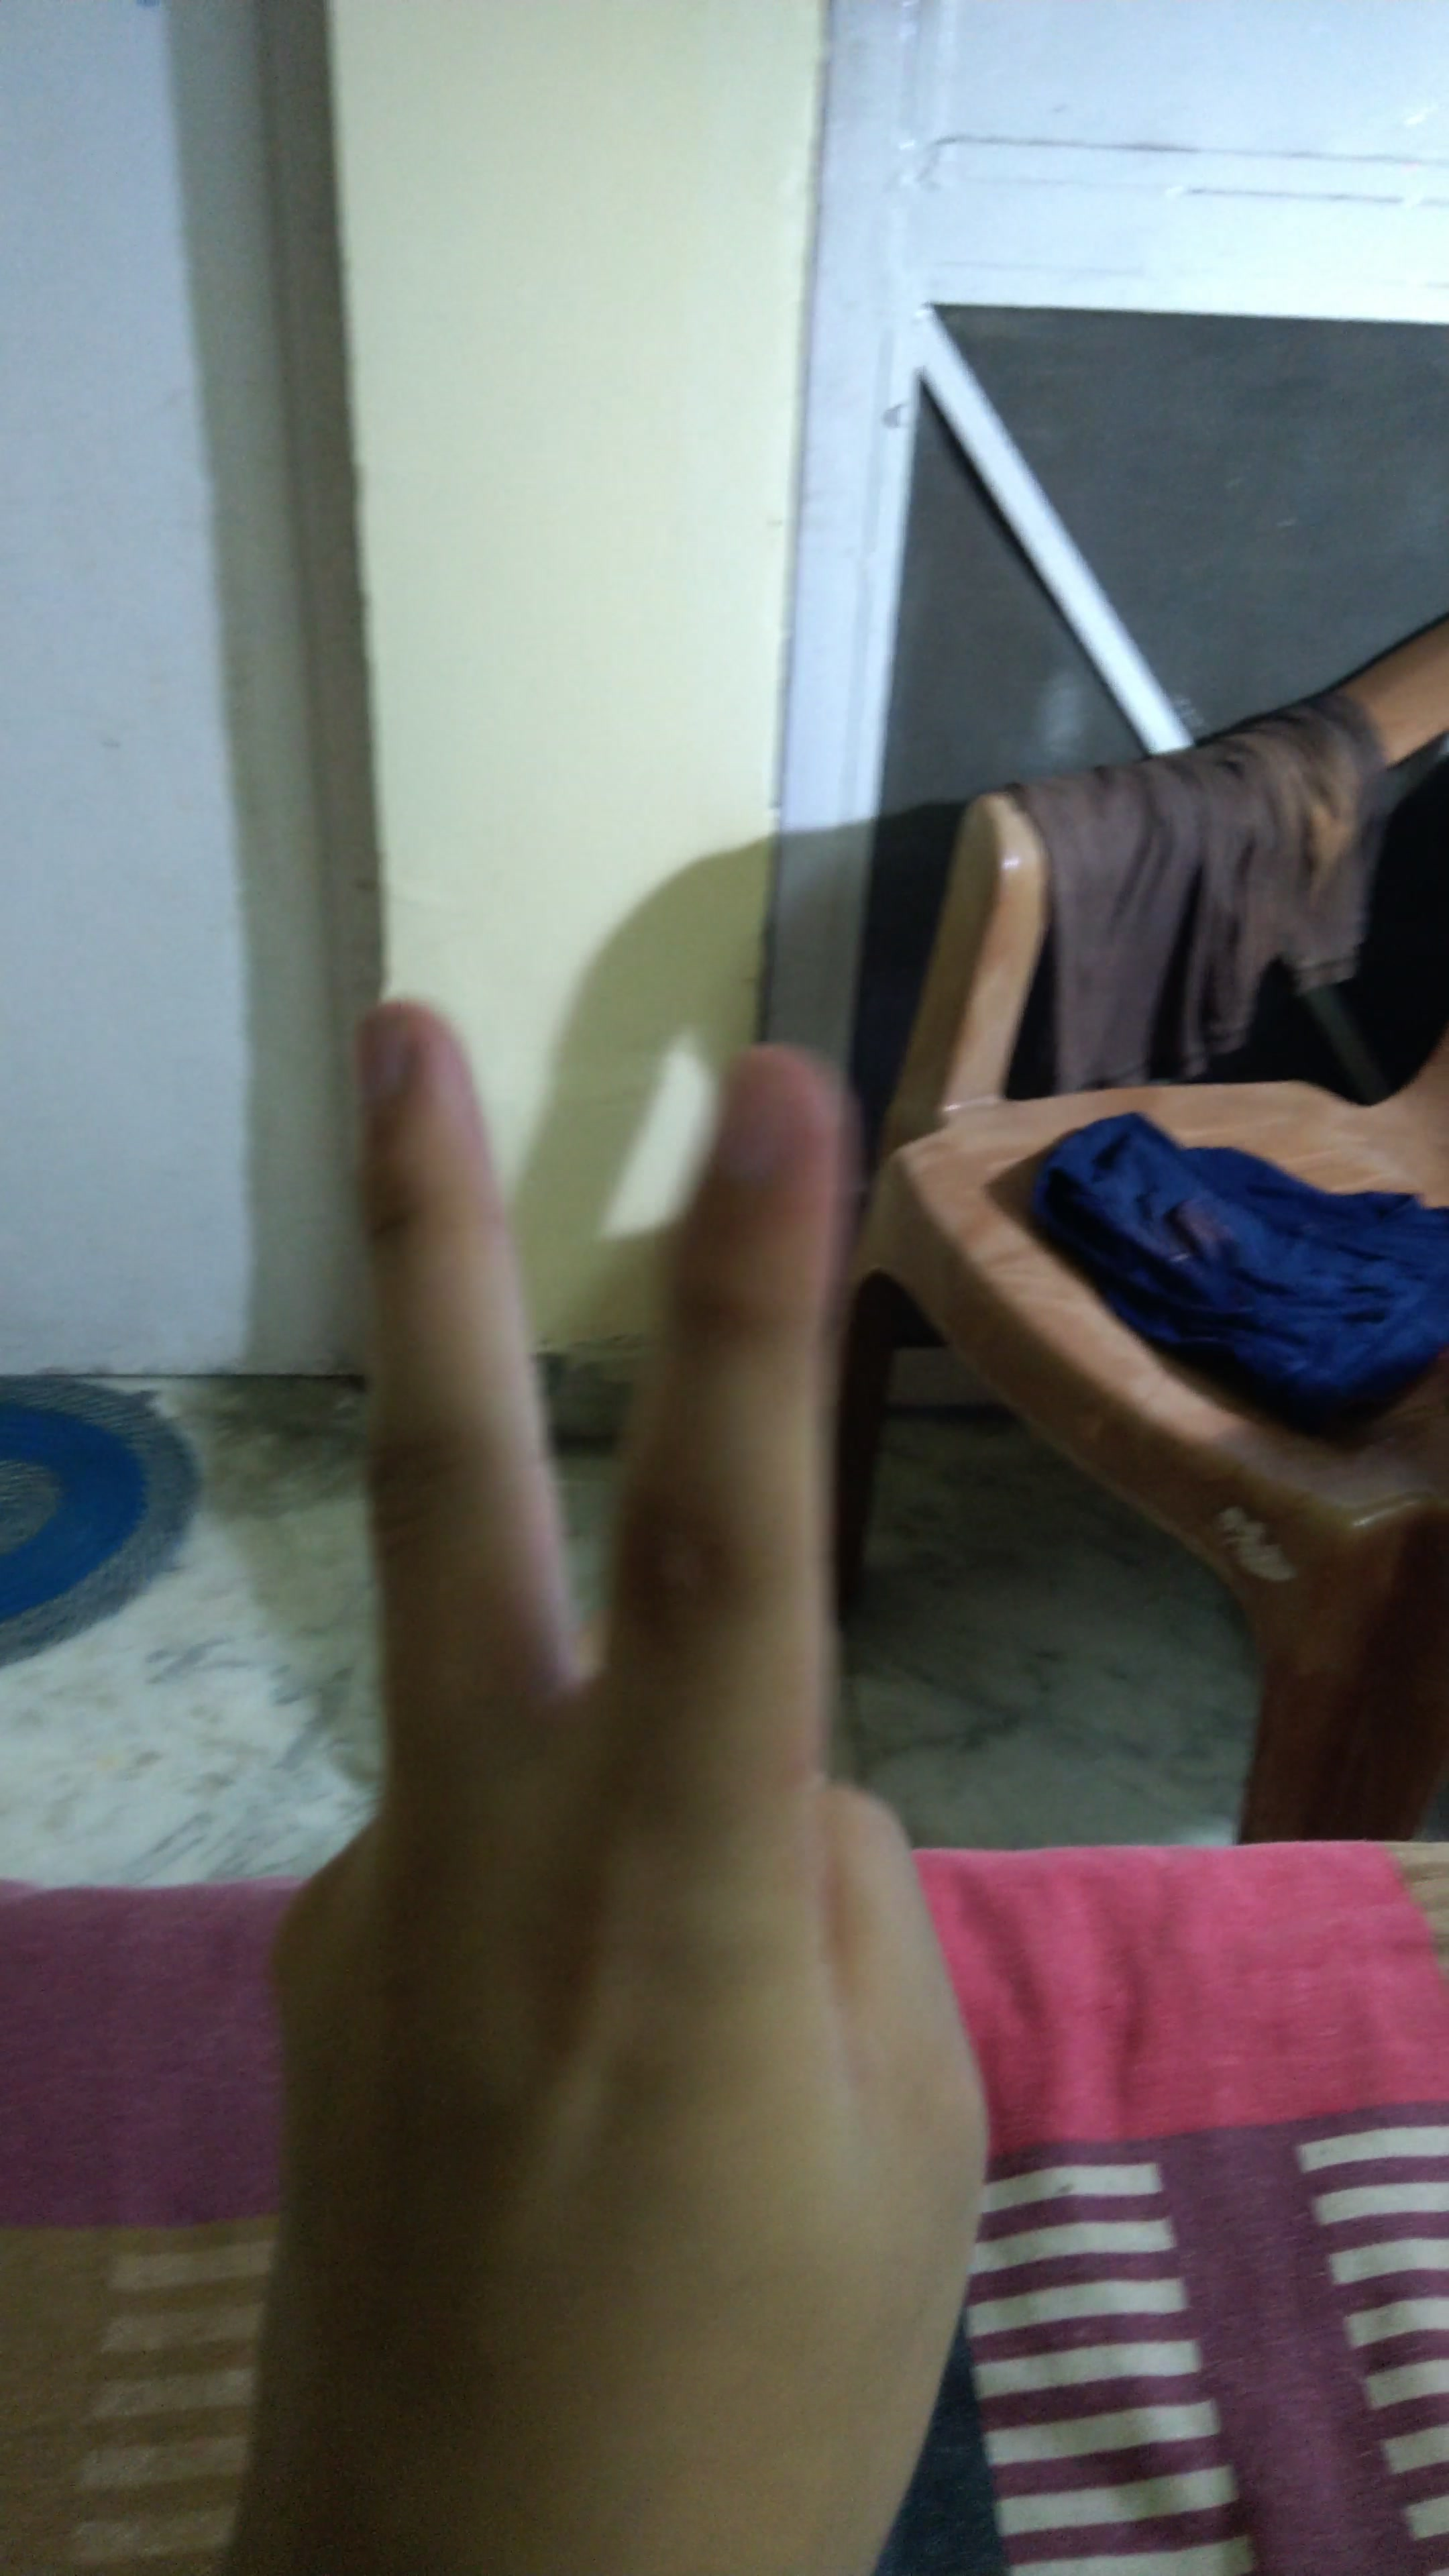hand: (111, 966, 1154, 2450)
